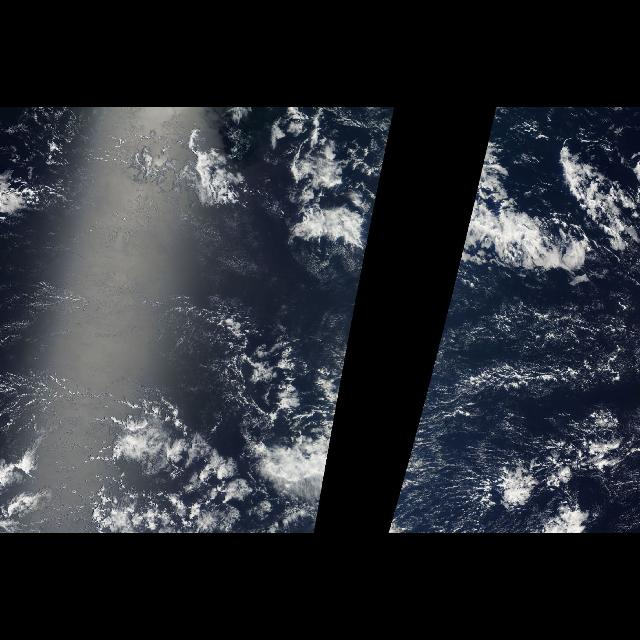Fish: (454, 133, 628, 283), (280, 133, 390, 283)
Sugar: (7, 243, 231, 414), (390, 312, 512, 524)
